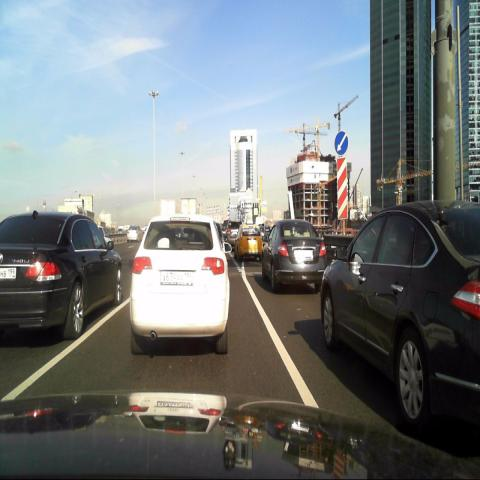4_2_2: (334, 130, 348, 155)
